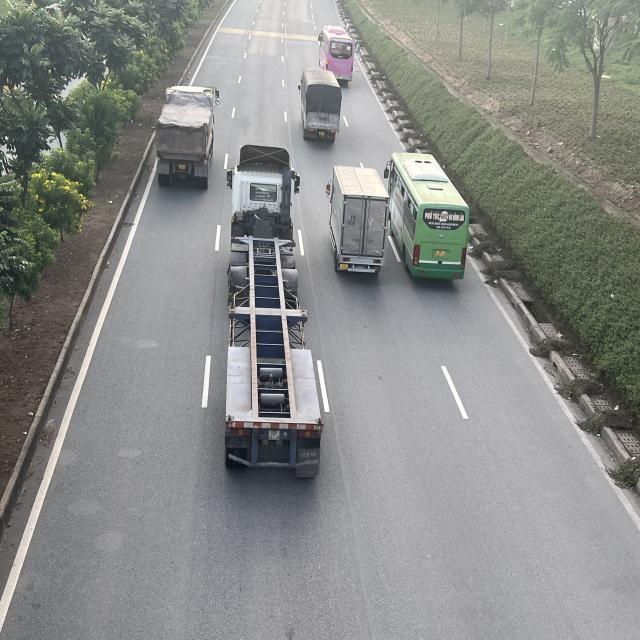coach: (389, 152, 472, 282), (316, 25, 355, 86)
container: (224, 145, 324, 474), (154, 86, 217, 191)
truck: (329, 165, 392, 276), (301, 70, 342, 142)
